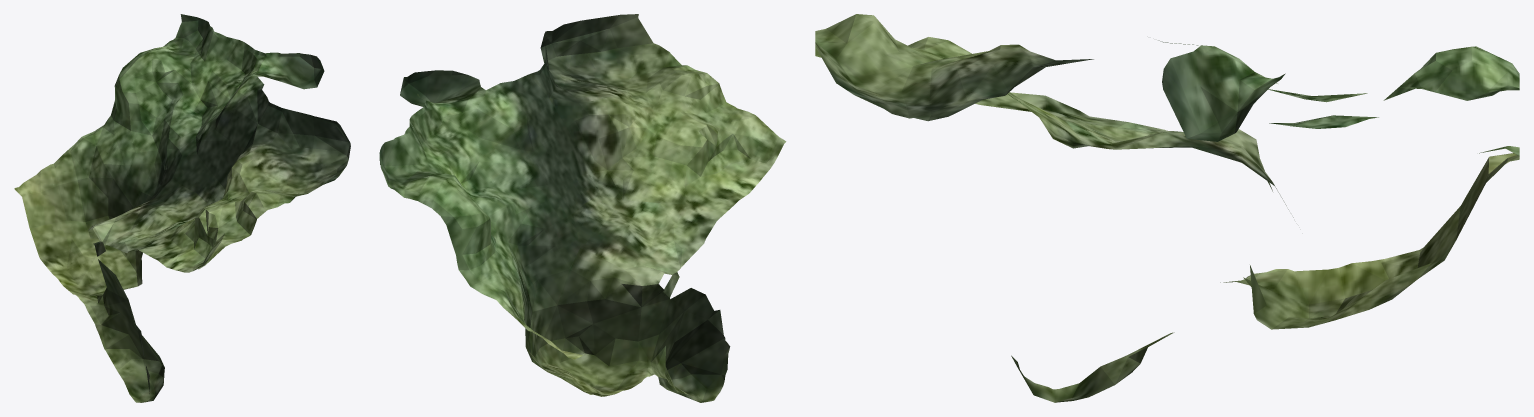
The picture shows the model from 3 angles, left to right: view 1: azimuth 30°, elevation 25°; view 2: azimuth 150°, elevation 25°; view 3: azimuth 270°, elevation 25°; orthographic projection. The views are drawn at different scales.
Size of the model in its own units: 2.1 by 2.3 by 2.95.
Materials: 2 (2 with a texture image).
